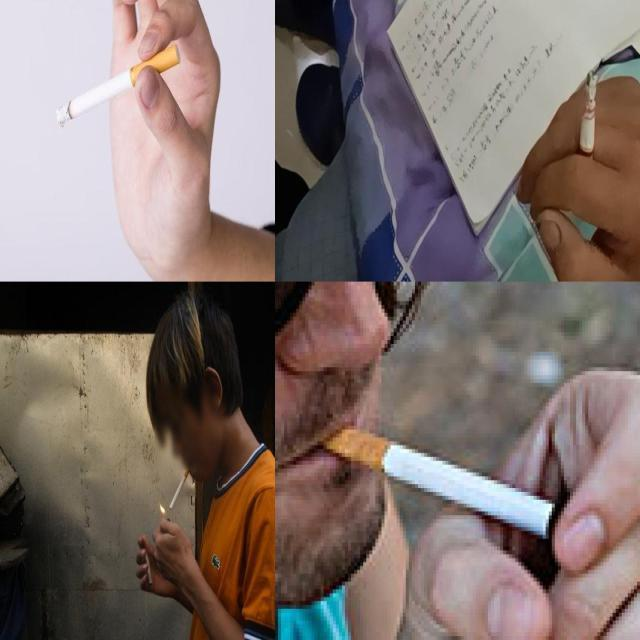smoking: (320, 414, 556, 540), (56, 44, 182, 127), (576, 70, 600, 176), (169, 470, 189, 510)
